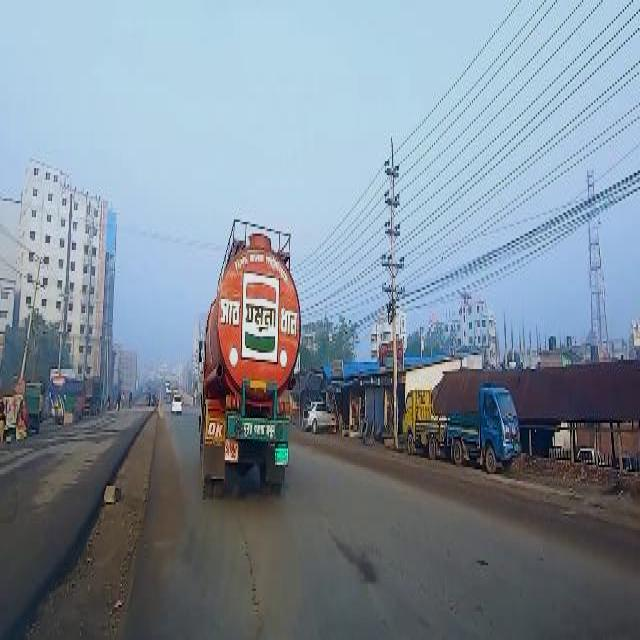TRUCK: (200, 228, 302, 492), (431, 376, 524, 474)
